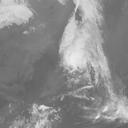cyclone: (60, 25, 111, 90)
